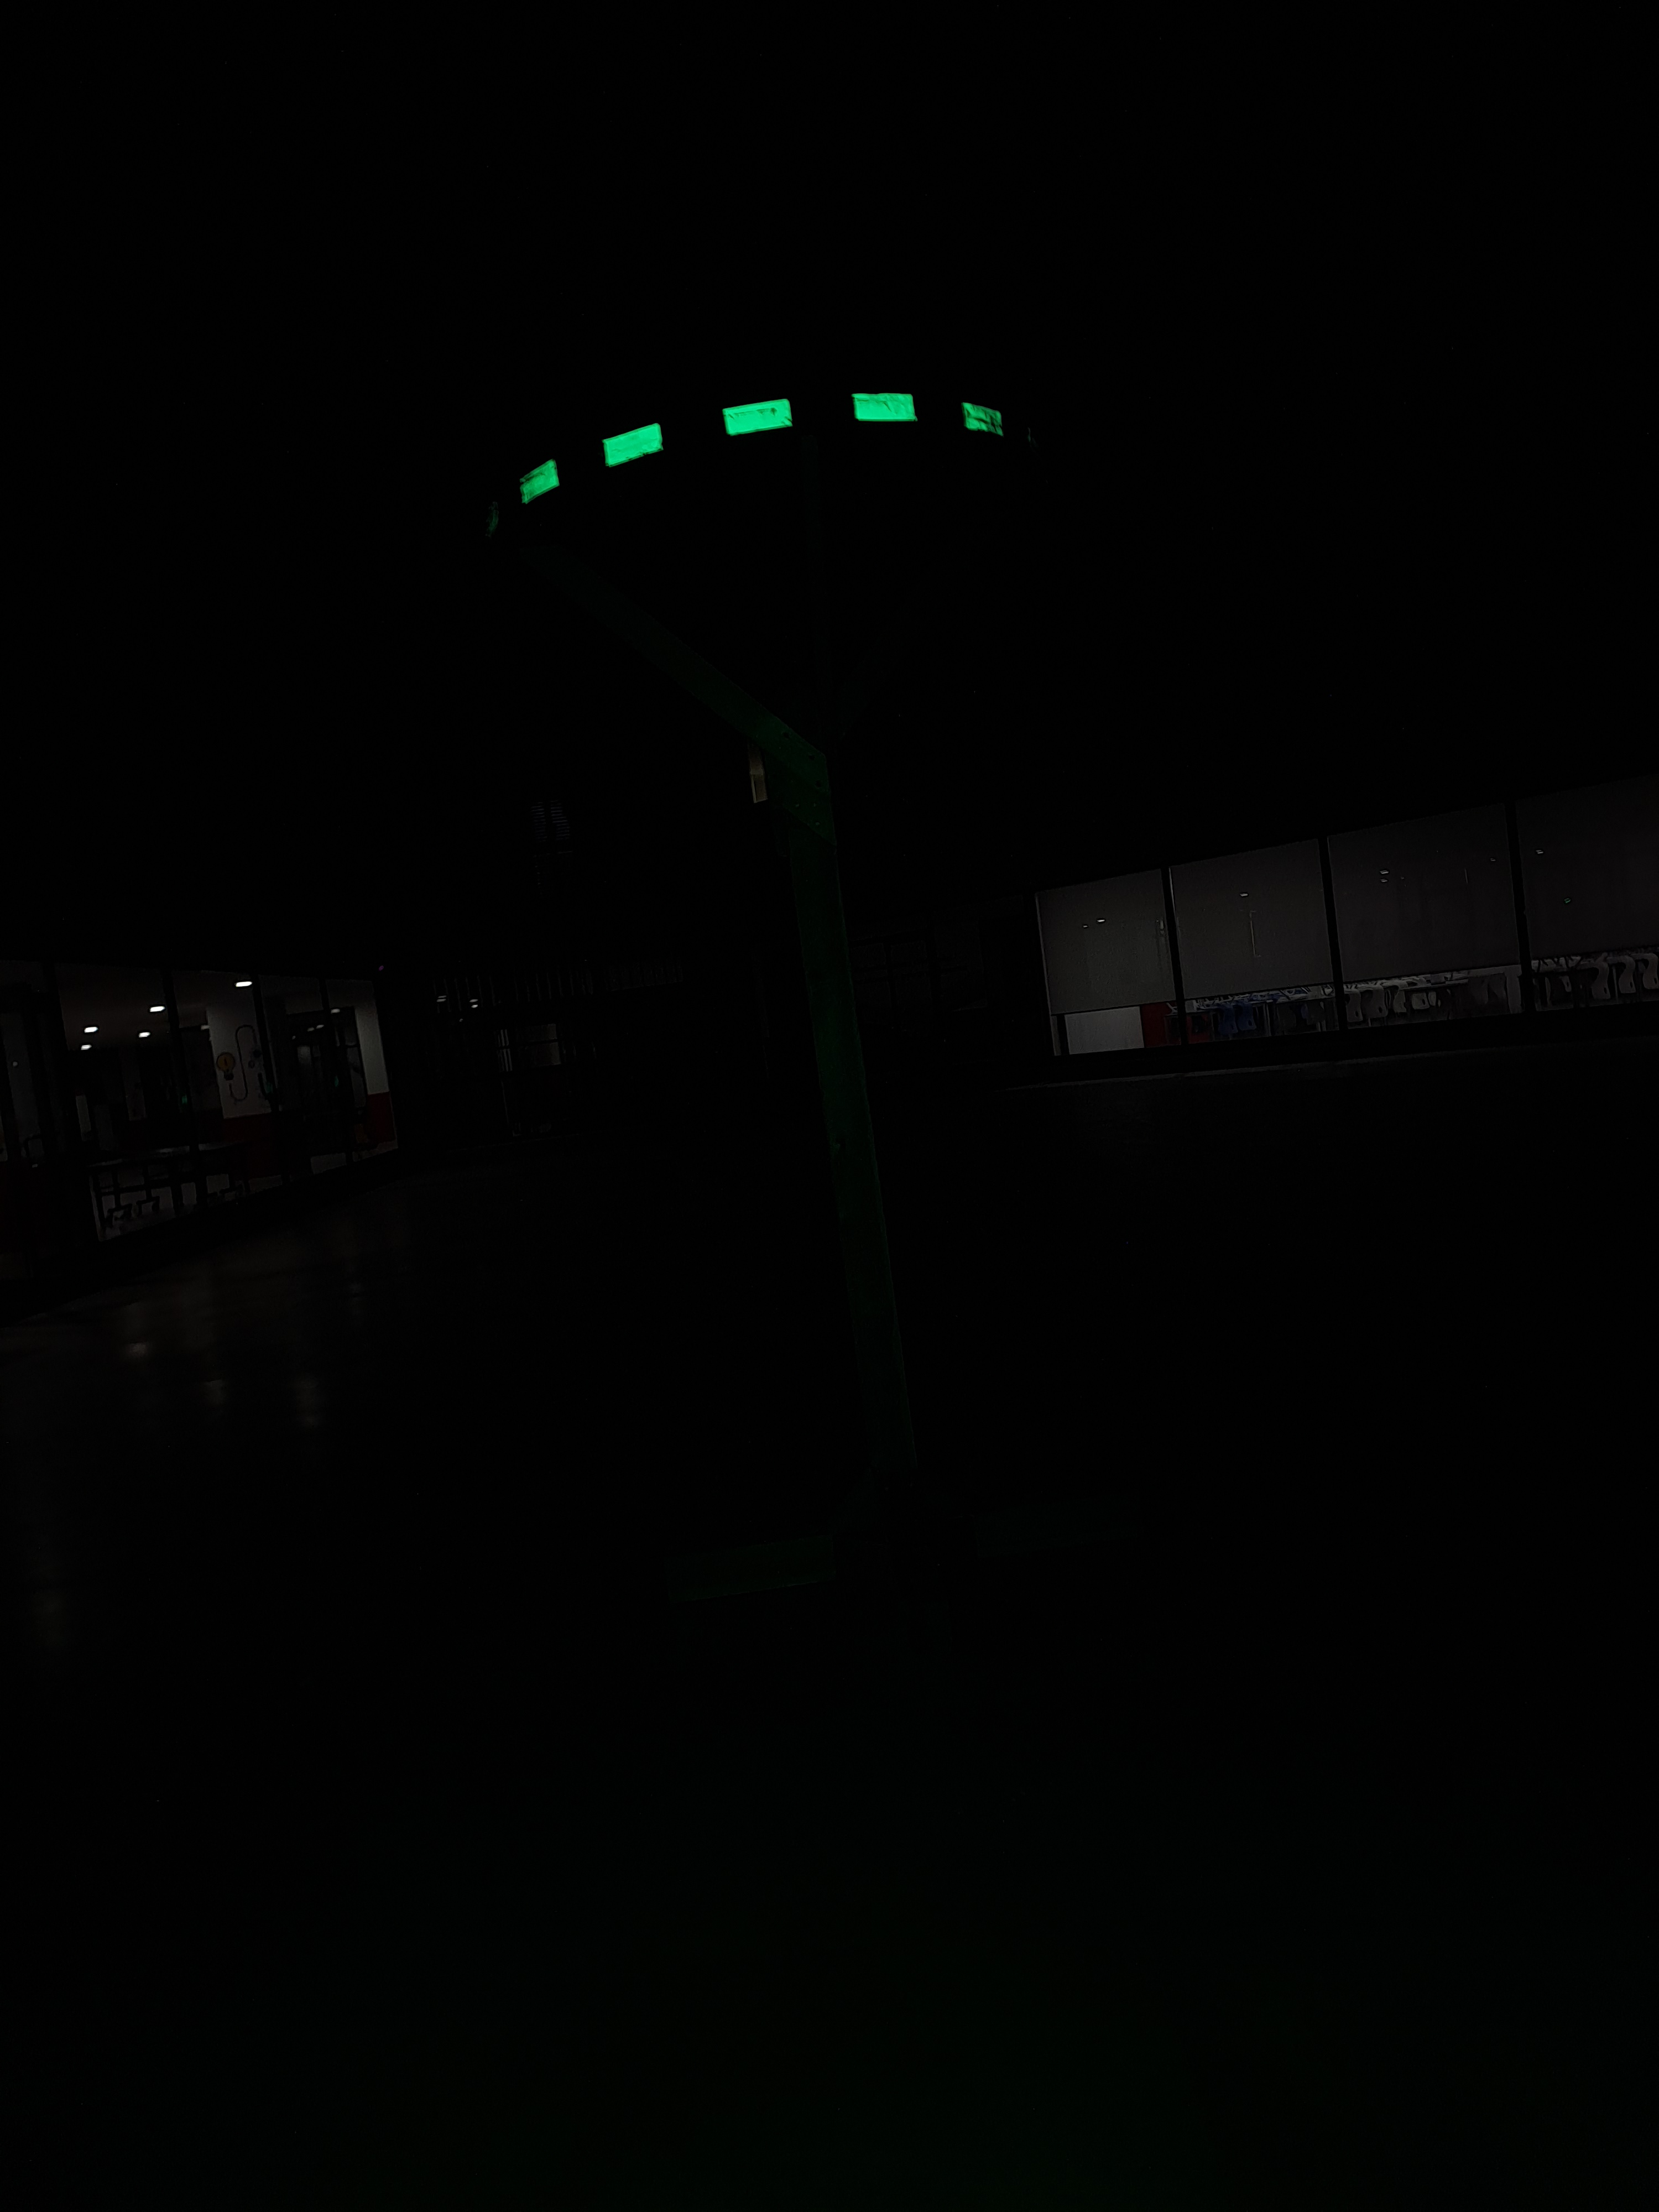hoop: (504, 381, 1016, 524)
